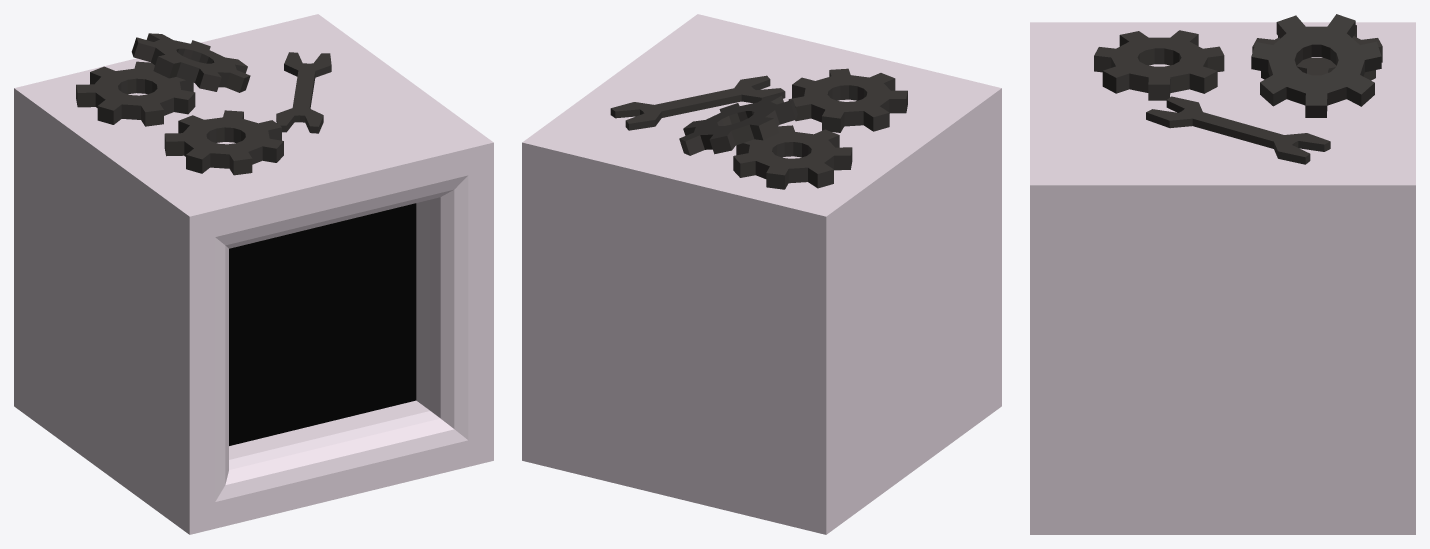
File: Show0.fbx
3 views of the same model, side by side, from view 1: azimuth 30°, elevation 25°; view 2: azimuth 150°, elevation 25°; view 3: azimuth 270°, elevation 25° (orthographic). The views are drawn at different scales.
Visible parts, largest first — view 1: Plane.002; view 2: Plane.002; view 3: Plane.002.
Part boxes in pixels (x1=…): Plane.002: x1=14, y1=14, x2=493, y2=534; Plane.002: x1=522, y1=14, x2=1001, y2=534; Plane.002: x1=1030, y1=14, x2=1415, y2=534.
Bounding box in the file's own units: 200 × 232 × 200.
